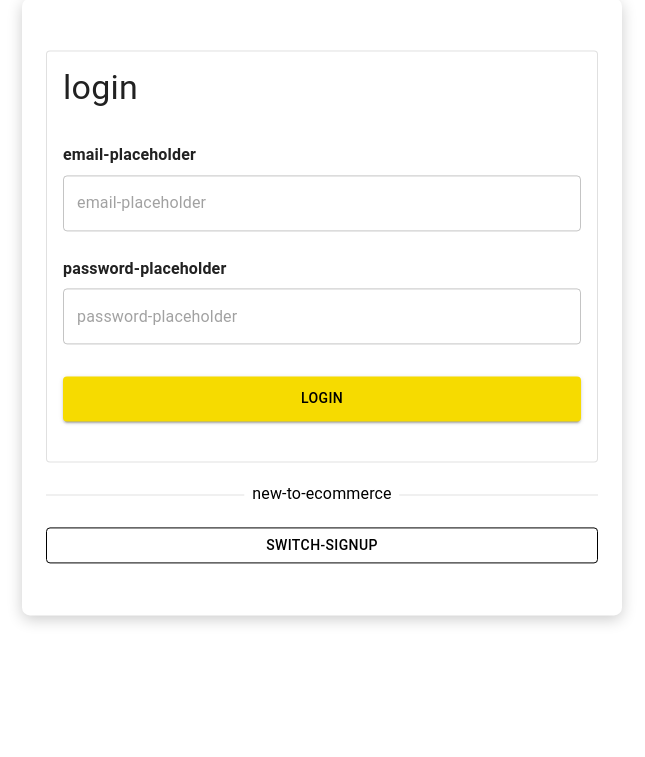
Scenario: switches to login view when button clicked
This screenshot has width=645, height=757.
Click the button with test id "create-button" at (322, 546), box [46,527,598,564]
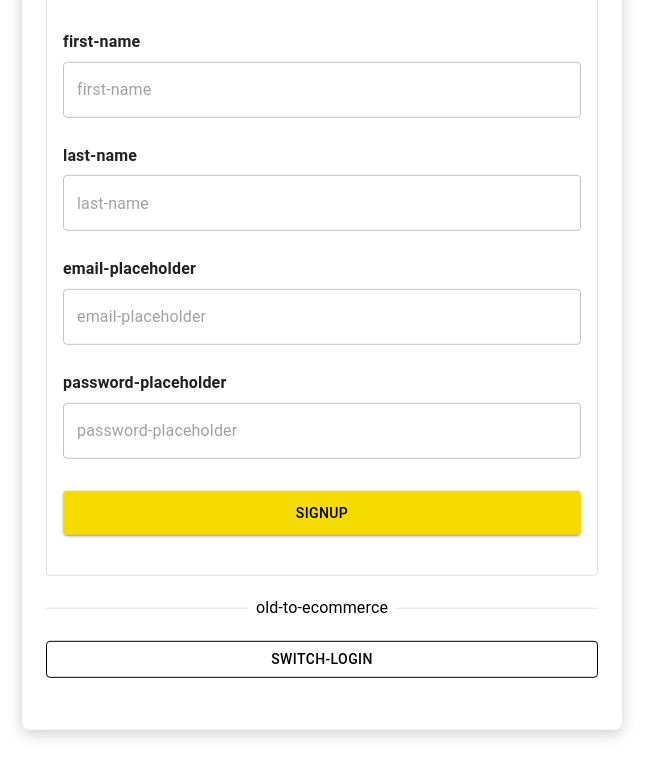
Click the button with test id "signin-button" at (322, 659), box [46,641,598,677]
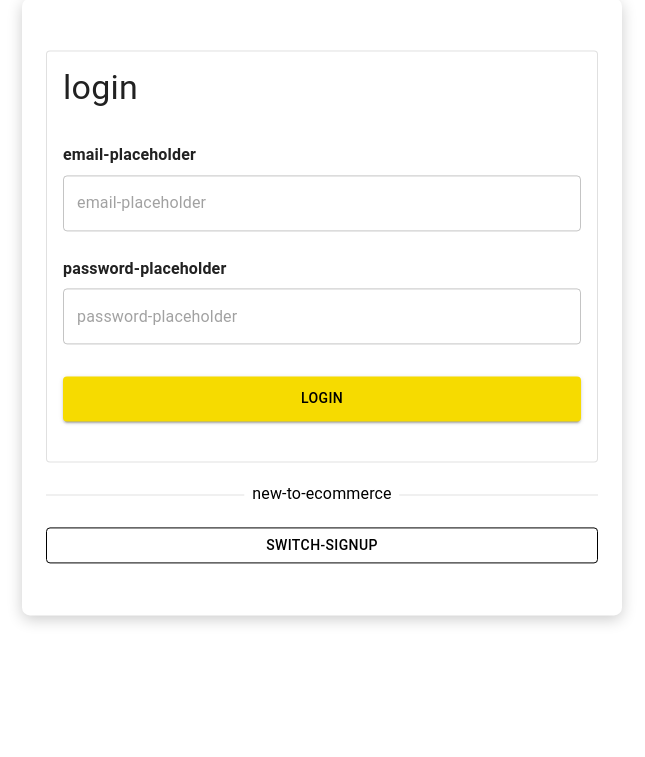
Result: the button with test id "signin-button" is gone
